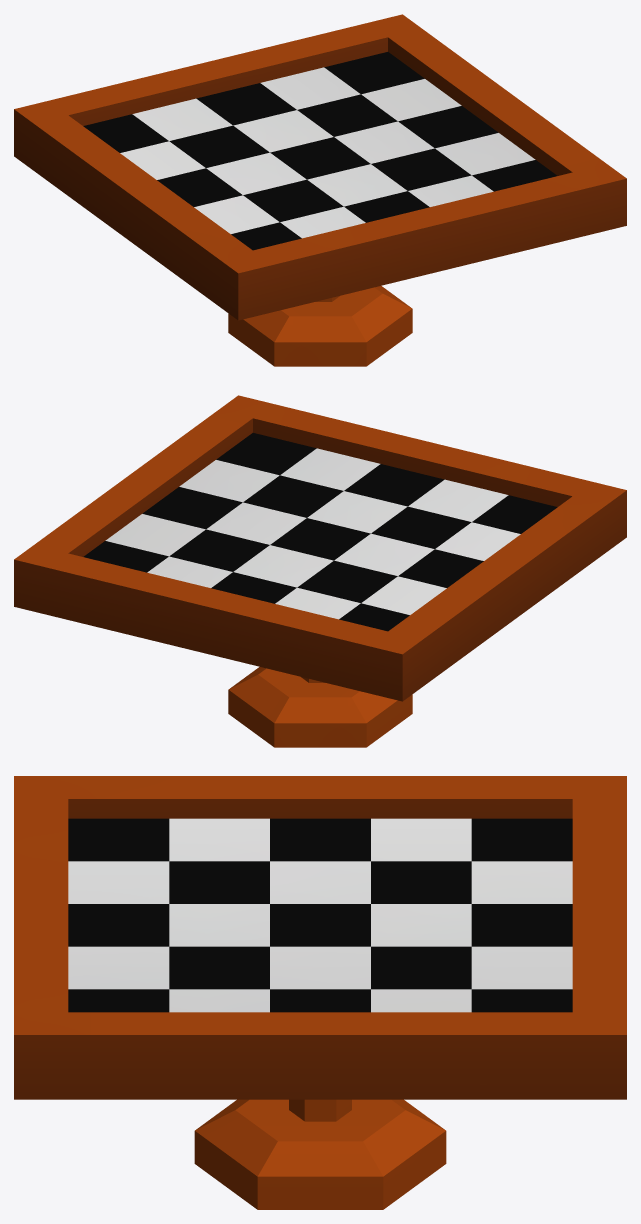
Rendered from Xadrez.fbx.
3 renders of one model, top to bottom at view 1: azimuth 30°, elevation 25°; view 2: azimuth 150°, elevation 25°; view 3: azimuth 270°, elevation 25°, orthographic. The views are drawn at different scales.
Parts seen in each view (by area): view 1: xadrez; view 2: xadrez; view 3: xadrez.
Boxes of the visible parts, x1=… form: xadrez: x1=14, y1=14, x2=626, y2=366; xadrez: x1=14, y1=395, x2=626, y2=747; xadrez: x1=14, y1=776, x2=626, y2=1209.
Bounding box in the file's own units: 117 × 54.39 × 117.
